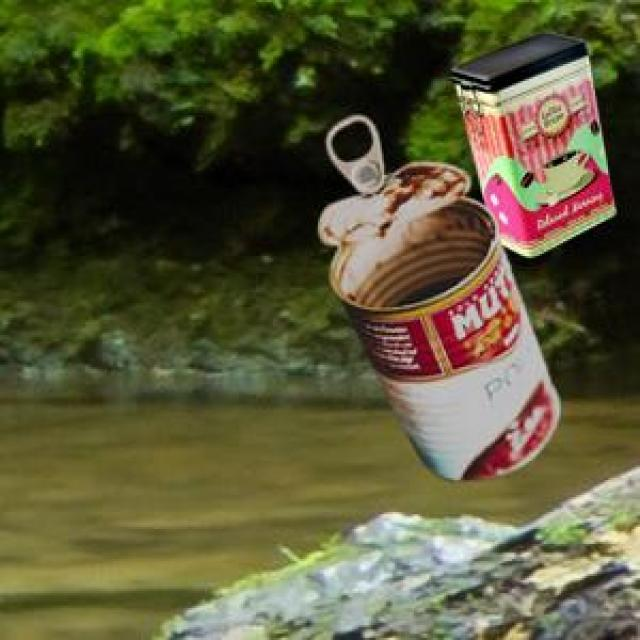Can: (315, 114, 558, 477), (449, 29, 613, 253)
